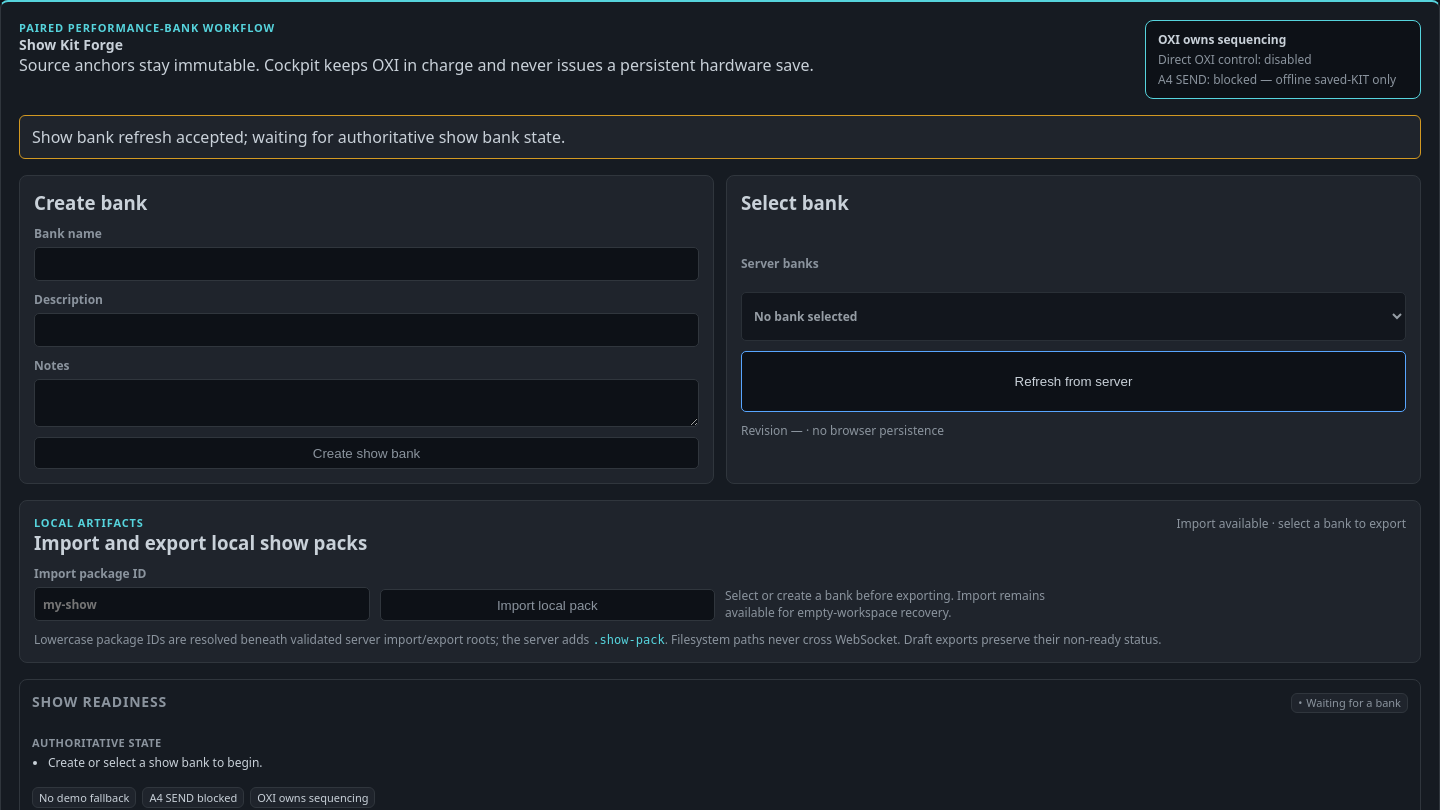
Test case: ShowKitForgePanel › reports rejected and thrown commands without changing authoritative bank state
Click the button "Refresh from server": (1074, 381) [741,350,1406,412]
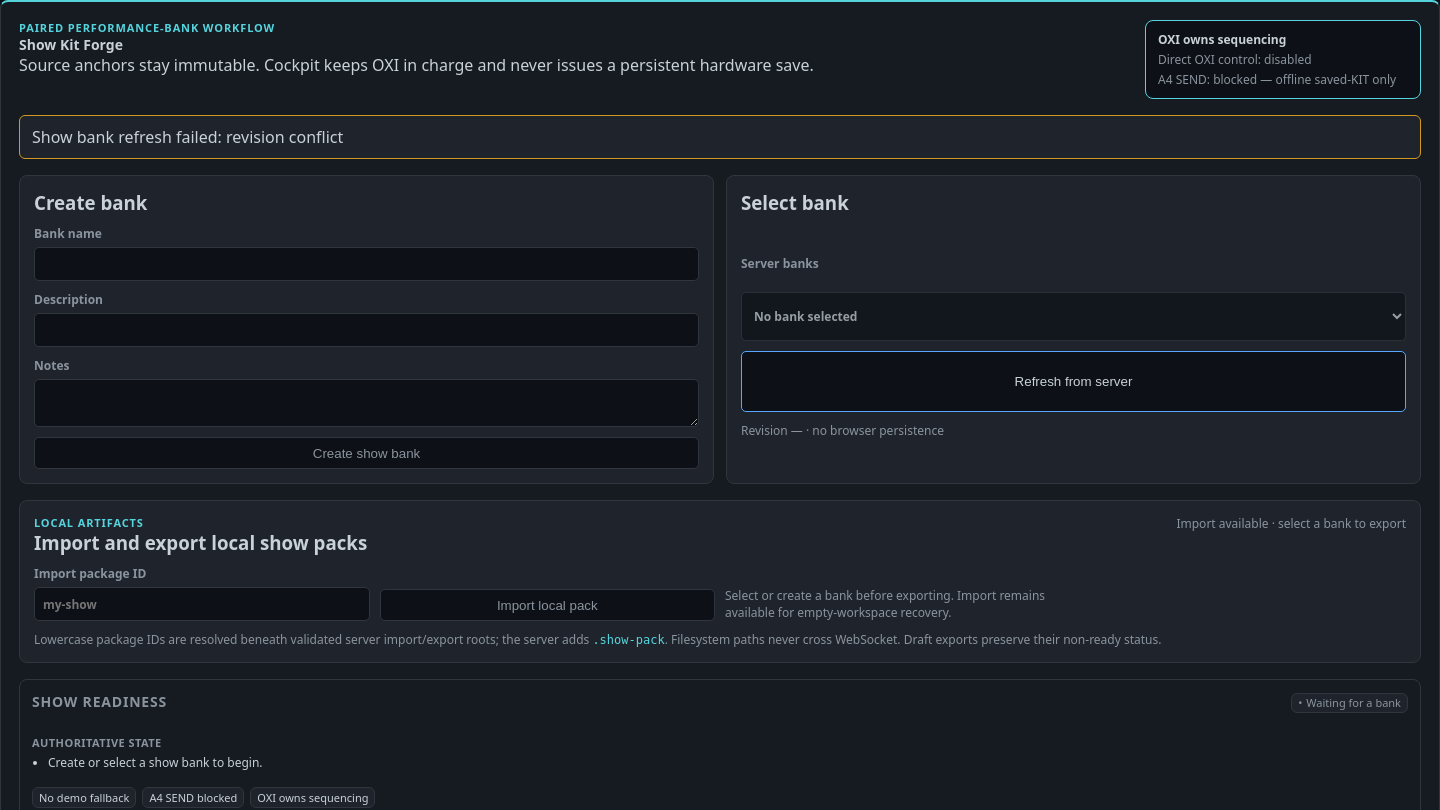
expect the text "Show bank refresh failed: revision conflict" is shown: met, box [19,115,1421,159]
Click the button "Refresh from server": (1074, 381) [741,350,1406,412]
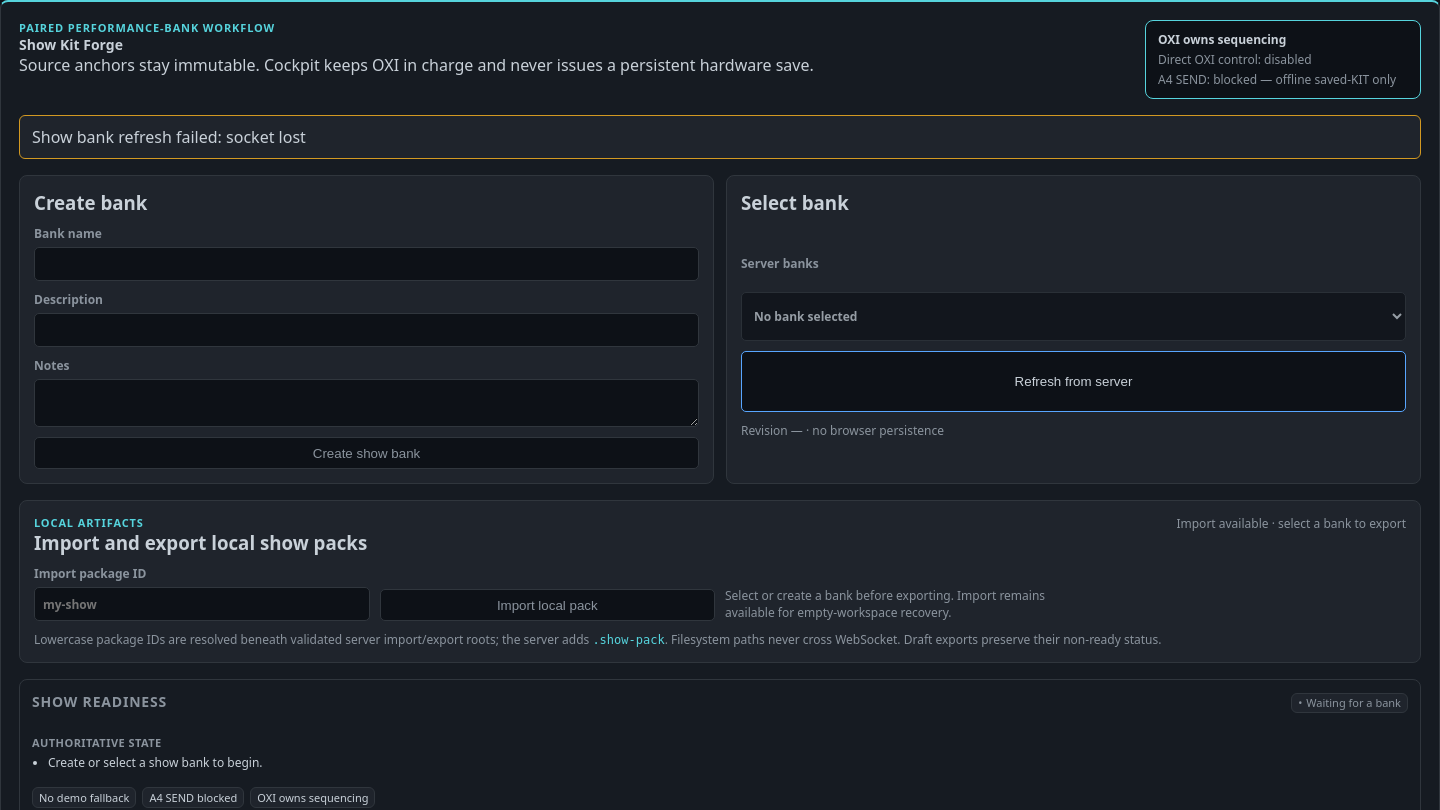
expect the text "Show bank refresh failed: socket lost" is shown: met, box [19,115,1421,159]
Click the button "Refresh from server": (1074, 381) [741,350,1406,412]
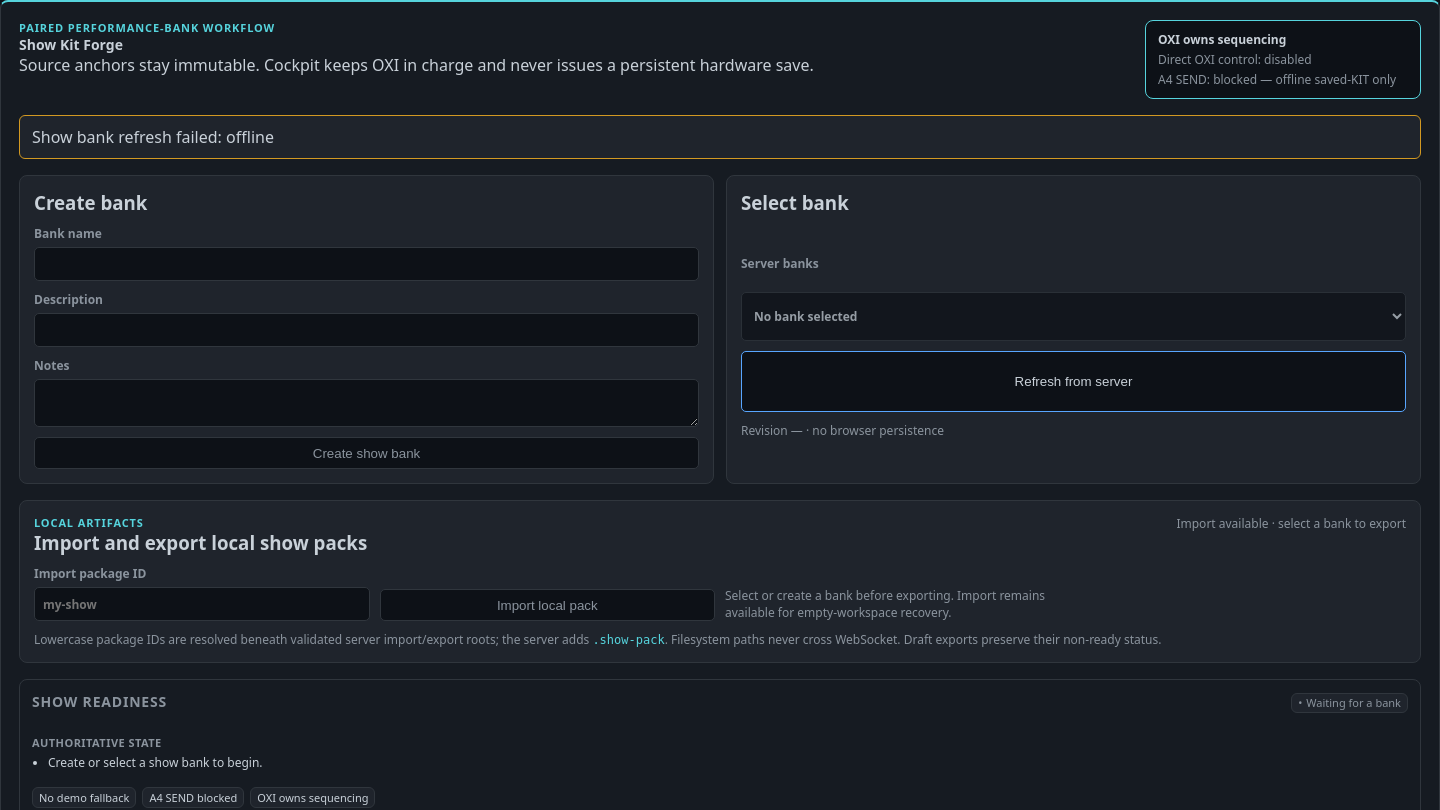
expect the text "Show bank refresh failed: offline" is shown: met, box [19,115,1421,159]
Click the button "Refresh from server": (1074, 381) [741,350,1406,412]
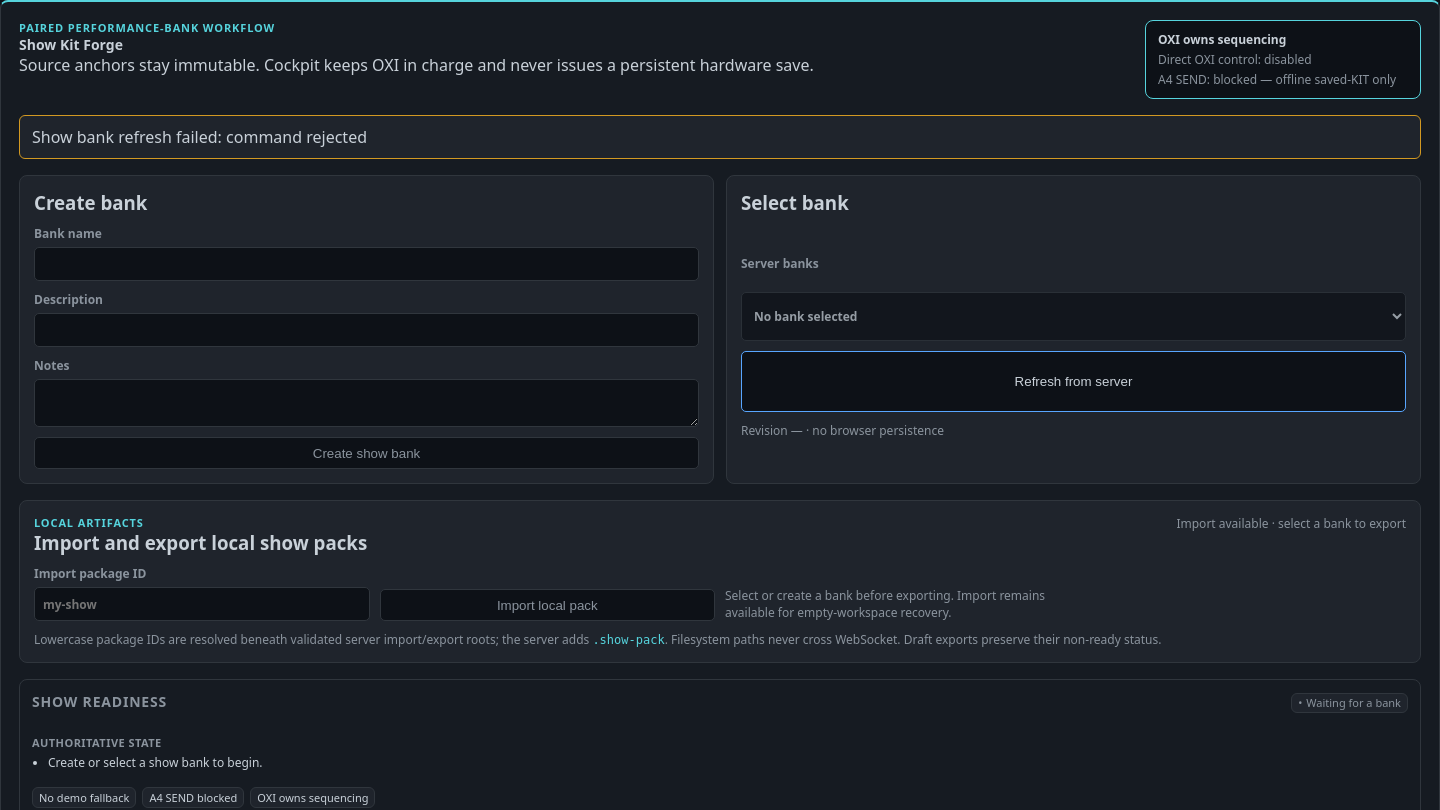
expect the text "Show bank refresh failed: command rejected" is shown: met, box [19,115,1421,159]
